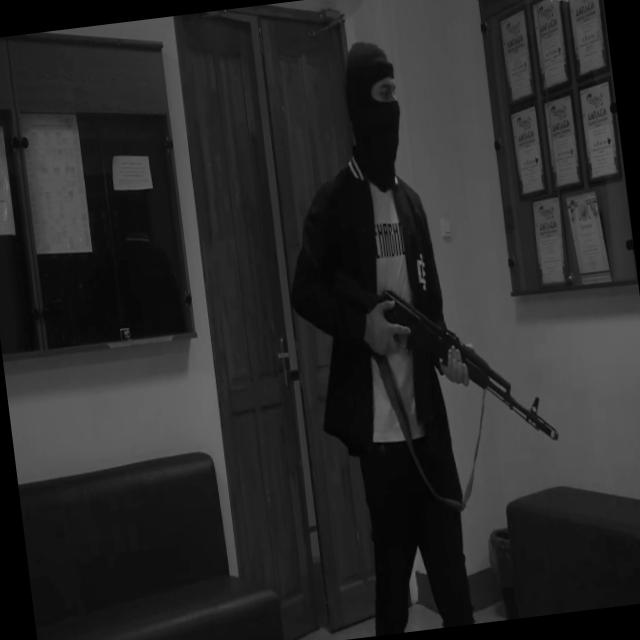gun: (324, 238, 560, 468)
person with a gun: (261, 23, 581, 640)
